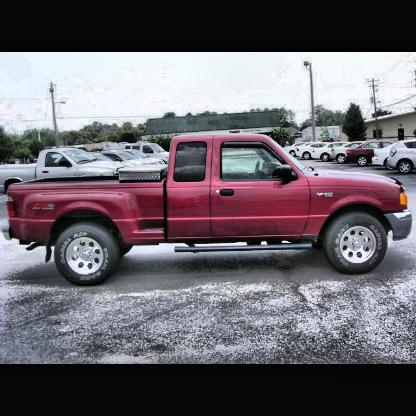Ford Ranger SuperCab 2011: (4, 135, 412, 287)
